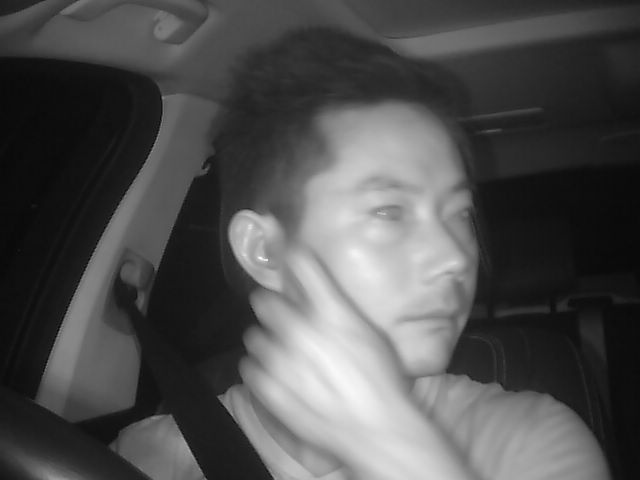hand: (235, 251, 392, 452)
